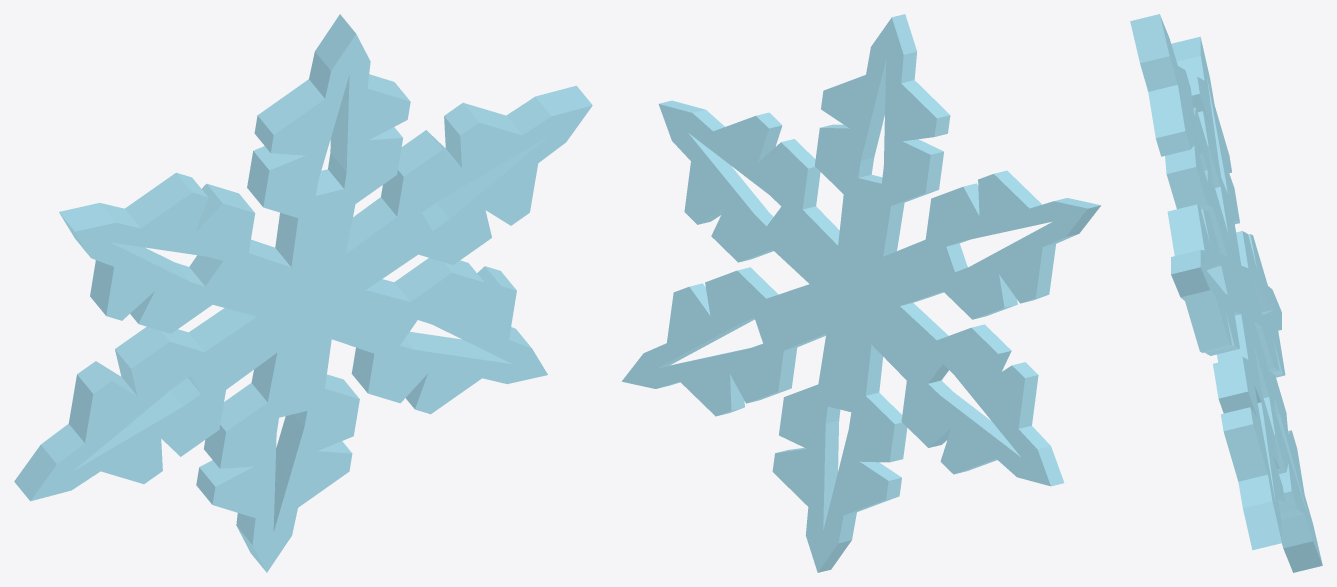
Rendered from ps2_save-icons_skiandshoot.glb.
3 views of the same model, side by side, from view 1: azimuth 30°, elevation 25°; view 2: azimuth 150°, elevation 25°; view 3: azimuth 270°, elevation 25° (orthographic). The views are drawn at different scales.
Visible parts, largest first — view 1: icon1.ico; view 2: icon1.ico; view 3: icon1.ico.
Part boxes in pixels (x1,y1,x2,y2): icon1.ico: (14, 14, 592, 572); icon1.ico: (622, 14, 1100, 572); icon1.ico: (1130, 14, 1322, 572).
Size of the model in its own units: 2.41 by 2.73 by 0.8521.
Materials: 1 (1 with a texture image).
